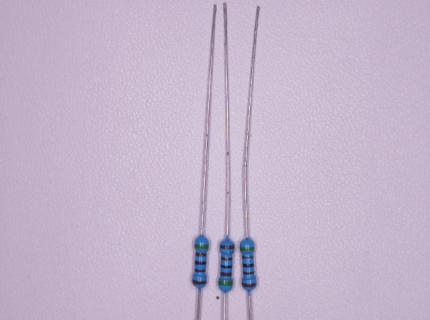Black band: (221, 264, 232, 269), (195, 261, 206, 265), (242, 264, 254, 267)
Brown band: (193, 279, 207, 285), (220, 245, 234, 250), (242, 283, 256, 287), (221, 272, 232, 277), (195, 253, 206, 257), (221, 257, 232, 261), (243, 271, 254, 275), (243, 255, 253, 259), (195, 269, 205, 272)
Green band: (219, 280, 233, 286), (240, 246, 254, 251), (195, 244, 208, 249)
